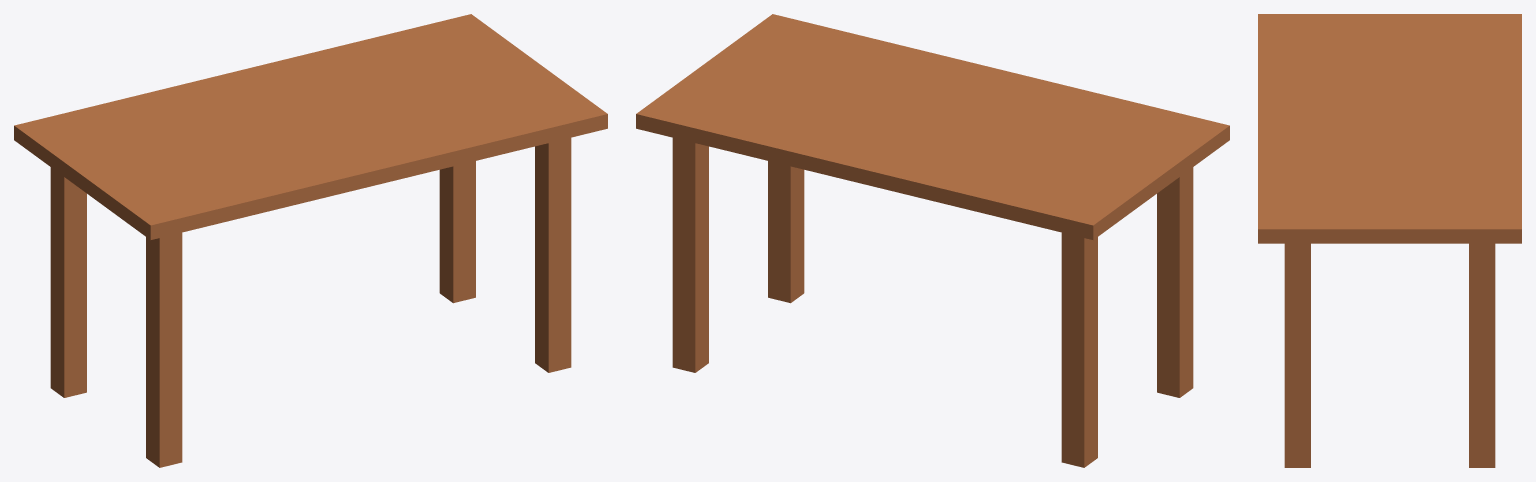
The model's file is table.fbx.
The picture shows the model from 3 angles, left to right: view 1: azimuth 30°, elevation 25°; view 2: azimuth 150°, elevation 25°; view 3: azimuth 270°, elevation 25°; orthographic projection. The views are drawn at different scales.
Parts seen in each view (by area): view 1: table; view 2: table; view 3: table.
Boxes of the visible parts, x1,y1,x2,y2 form: table: (14,14,607,467); table: (636,14,1229,467); table: (1258,14,1521,467).
Size of the model in its own units: 1.2 by 0.6463 by 0.6201.
